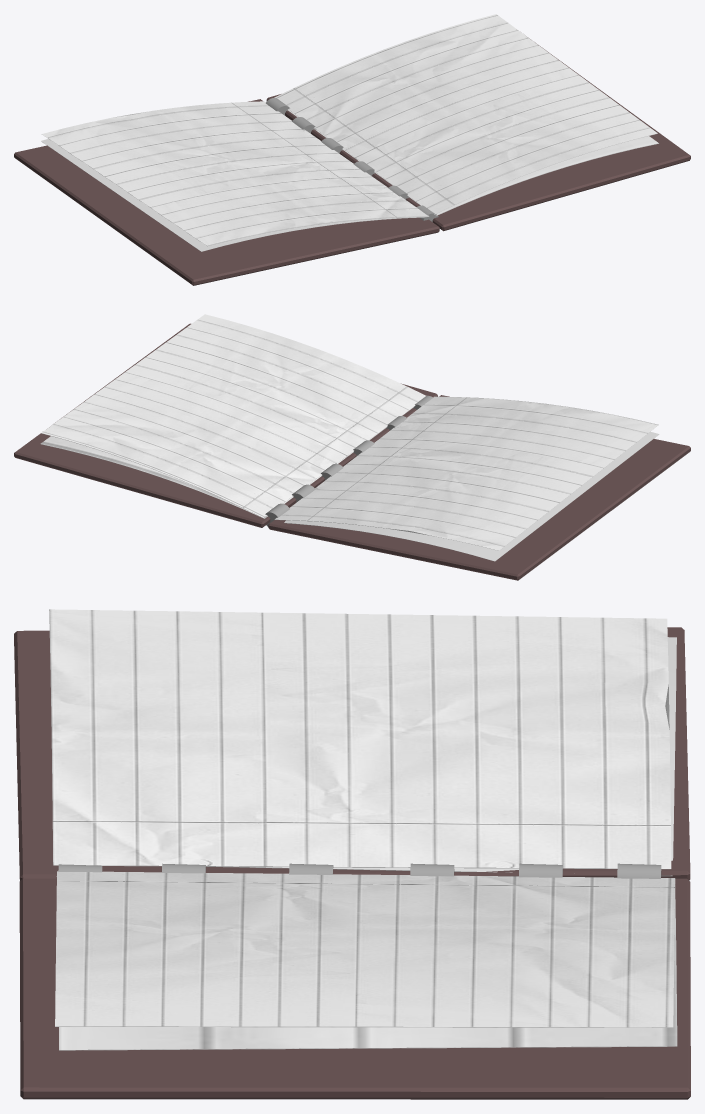
The model's file is open_book.fbx.
The picture shows the model from 3 angles, top to bottom: view 1: azimuth 30°, elevation 25°; view 2: azimuth 150°, elevation 25°; view 3: azimuth 270°, elevation 25°; orthographic projection. The views are drawn at different scales.
Parts seen in each view (by area): view 1: pasted__pasted__pCube1 (×2), pCube2, pasted__pCube2, pasted__pCube3, pasted__pasted__pCube2; view 2: pasted__pasted__pCube1 (×2), pCube2, pasted__pCube2, pasted__pCube3, pasted__pasted__pCube2; view 3: pasted__pasted__pCube1 (×2), pasted__pCube2, pCube2, pasted__pasted__pCube2, pasted__pCube3.
Boxes of the visible parts, bbox=[...] form: pasted__pasted__pCube1 (×2): bbox=[42, 14, 657, 246]; pCube2: bbox=[14, 99, 439, 285]; pasted__pCube2: bbox=[266, 38, 690, 231]; pasted__pCube3: bbox=[41, 139, 426, 251]; pasted__pasted__pCube2: bbox=[287, 109, 658, 216]; pasted__pasted__pCube1 (×2): bbox=[41, 314, 658, 550]; pCube2: bbox=[268, 395, 690, 580]; pasted__pCube2: bbox=[14, 323, 437, 527]; pasted__pCube3: bbox=[284, 431, 659, 561]; pasted__pasted__pCube2: bbox=[40, 407, 413, 518]; pasted__pasted__pCube1 (×2): bbox=[49, 609, 675, 1027]; pasted__pCube2: bbox=[19, 878, 690, 1099]; pCube2: bbox=[14, 627, 690, 880]; pasted__pasted__pCube2: bbox=[56, 876, 677, 1050]; pasted__pCube3: bbox=[207, 637, 676, 876].
Bounding box in the file's own units: 0.3521 × 0.0285 × 0.2156.
4 materials, 1 textured.
